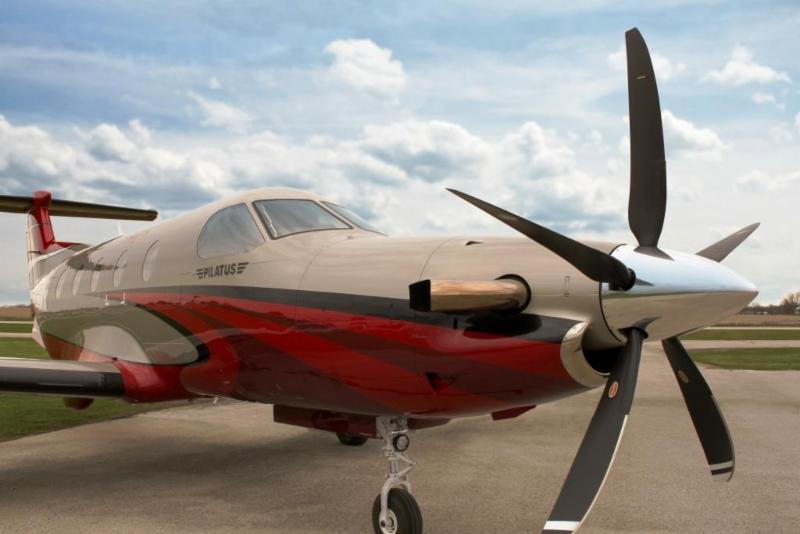Propeller: (527, 54, 756, 510)
